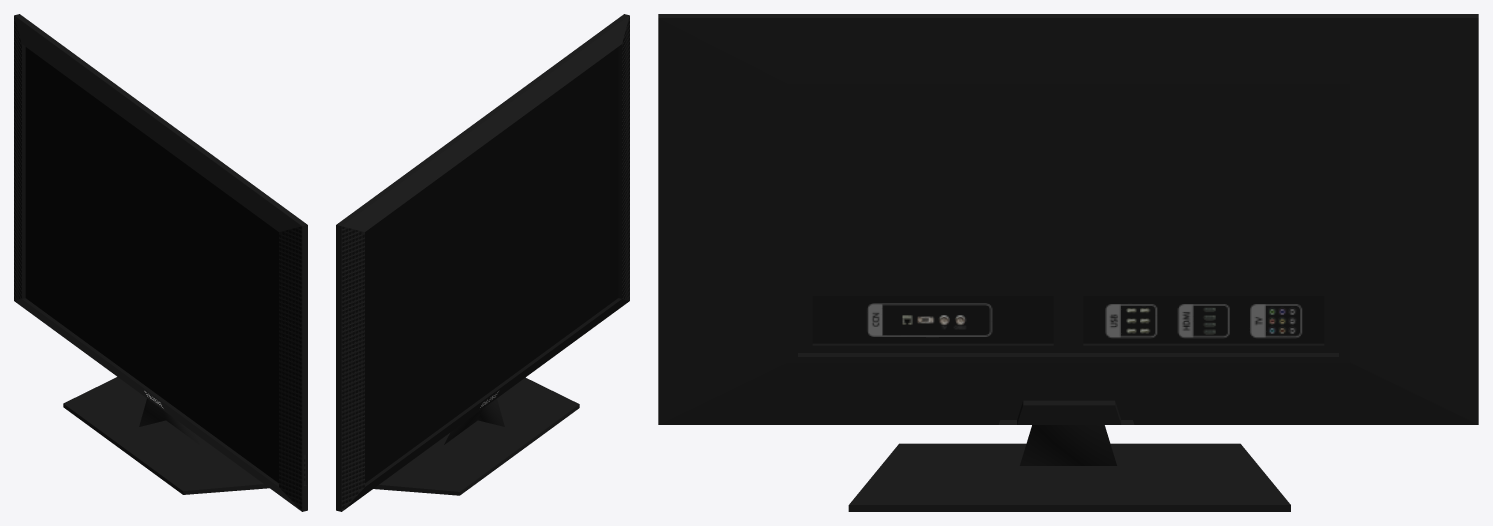
File: led_tv_free.gltf
3 renders of one model, left to right at view 1: azimuth 30°, elevation 25°; view 2: azimuth 150°, elevation 25°; view 3: azimuth 270°, elevation 25°, orthographic. The views are drawn at different scales.
Parts seen in each view (by area): view 1: Cube; view 2: Cube; view 3: Cube.
Boxes of the visible parts, left/top/right/bottom form: Cube: left=14, top=14, right=307, bottom=511; Cube: left=336, top=14, right=629, bottom=511; Cube: left=658, top=14, right=1478, bottom=511.
Bounding box in the file's own units: 27.34 × 94.23 × 152.
1 material, 1 textured.
